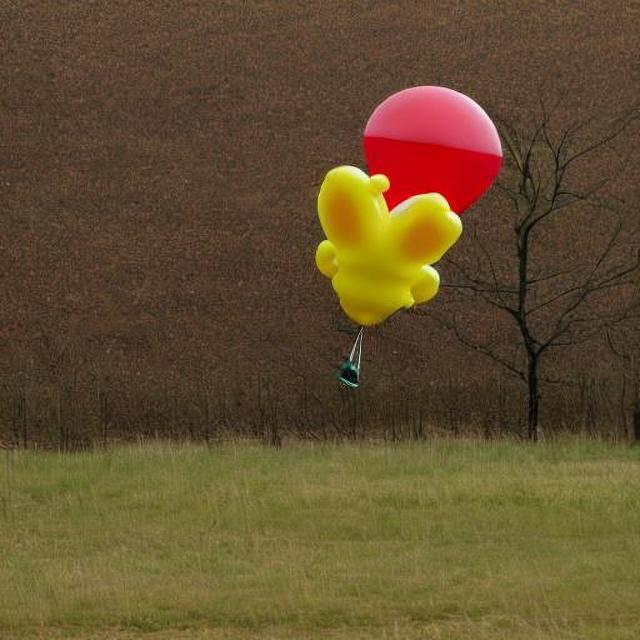balloon: (307, 83, 501, 332)
